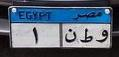1: (32, 27, 40, 43)
Taa: (79, 28, 93, 46)
noon: (65, 29, 77, 43)
waw: (96, 29, 109, 44)
